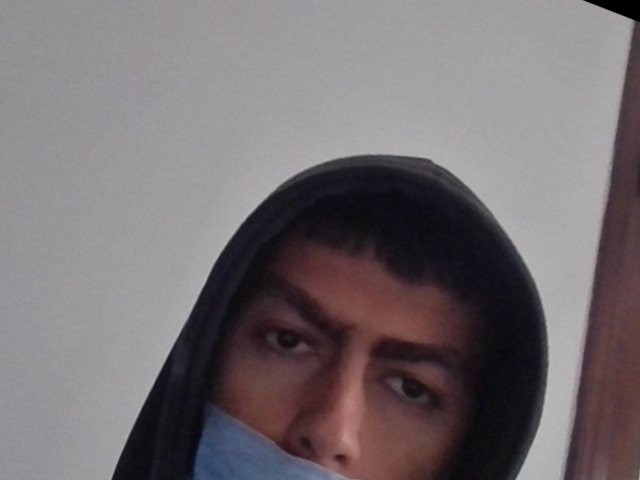mask_weared_incorrect: (186, 206, 485, 480)
